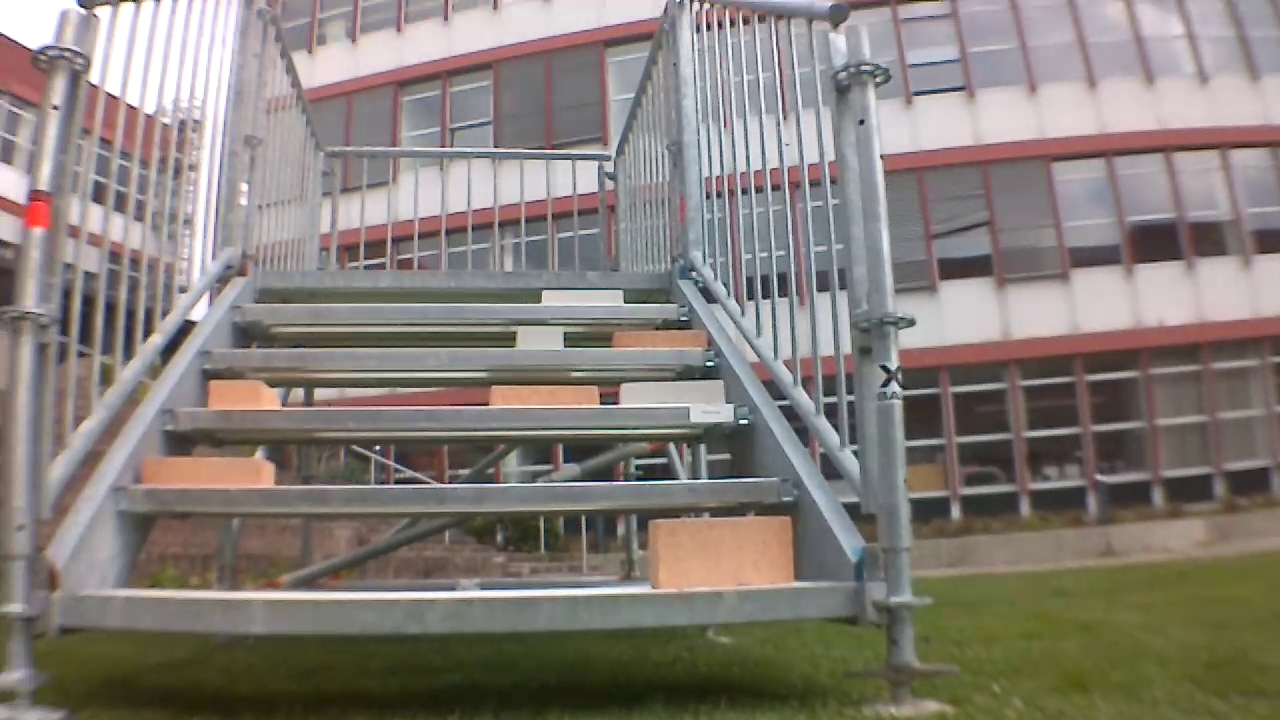brick: (644, 510, 790, 594), (134, 453, 277, 489), (196, 377, 276, 415), (599, 329, 708, 355), (621, 381, 728, 407), (476, 385, 595, 406), (541, 293, 621, 312), (516, 326, 559, 351)
edge: (48, 586, 870, 633), (108, 478, 799, 509), (158, 403, 759, 432), (195, 339, 721, 371), (227, 298, 693, 328), (247, 267, 671, 288)
stairs: (11, 1, 894, 703)
steps: (42, 263, 874, 631)
